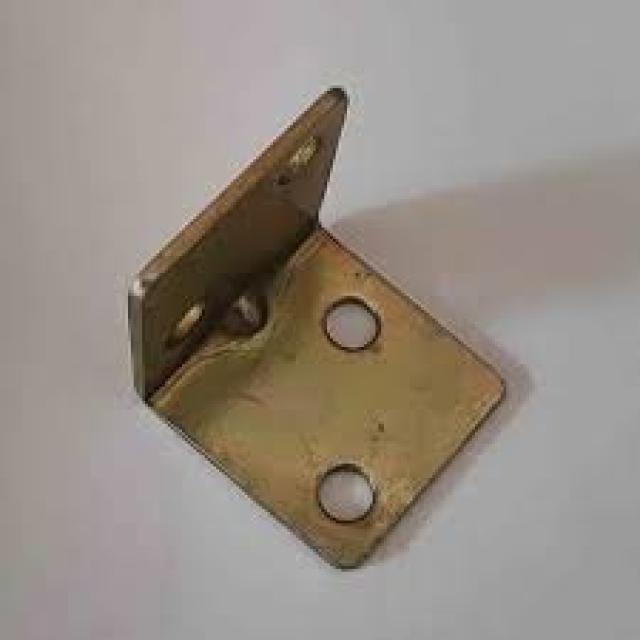holes: (313, 461, 375, 523), (319, 296, 381, 350)
